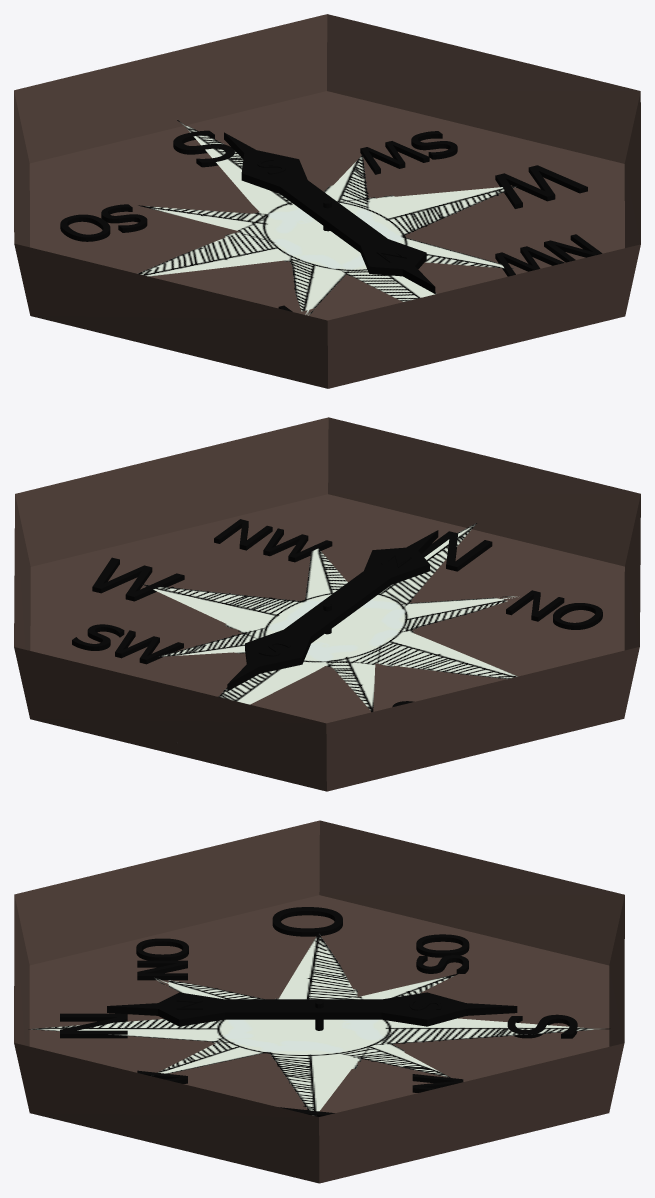
The model's file is kompass_25.10.fbx.
The picture shows the model from 3 angles, top to bottom: view 1: azimuth 30°, elevation 25°; view 2: azimuth 150°, elevation 25°; view 3: azimuth 270°, elevation 25°; orthographic projection. The views are drawn at different scales.
Parts seen in each view (by area): view 1: Extrudieren_1, Ebene, Nadel, Deckfläche_2, Beschriftung; view 2: Extrudieren_1, Ebene, Nadel, Deckfläche_2, Beschriftung; view 3: Extrudieren_1, Ebene, Nadel, Deckfläche_2, Beschriftung.
Part boxes in pixels (bbox=[...]): Extrudieren_1: bbox=[14, 14, 640, 388]; Ebene: bbox=[137, 120, 517, 315]; Nadel: bbox=[224, 132, 435, 293]; Deckfläche_2: bbox=[60, 130, 601, 311]; Beschriftung: bbox=[60, 134, 601, 308]; Extrudieren_1: bbox=[14, 417, 640, 791]; Ebene: bbox=[142, 523, 519, 742]; Nadel: bbox=[227, 530, 438, 691]; Deckfläche_2: bbox=[72, 519, 602, 707]; Beschriftung: bbox=[72, 523, 602, 704]; Extrudieren_1: bbox=[14, 820, 624, 1183]; Ebene: bbox=[28, 933, 610, 1116]; Nadel: bbox=[107, 992, 517, 1026]; Deckfläche_2: bbox=[60, 907, 577, 1115]; Beschriftung: bbox=[60, 911, 577, 1116].
Bounding box in the file's own units: 151 × 17.53 × 135.
4 materials, 2 textured.
